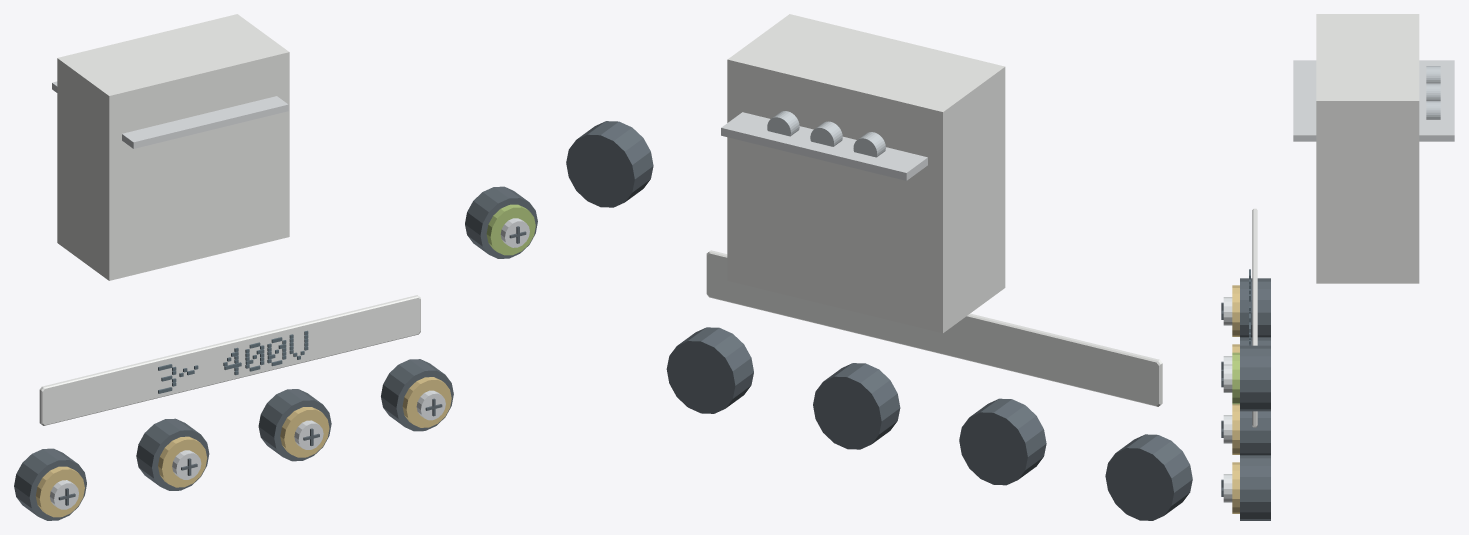
Rendered from threePhaseSupply.glb.
3 views of the same model, side by side, from view 1: azimuth 30°, elevation 25°; view 2: azimuth 150°, elevation 25°; view 3: azimuth 270°, elevation 25° (orthographic). The views are drawn at different scales.
Visible parts, largest first — view 1: threePhaseSupply-preview; view 2: threePhaseSupply-preview; view 3: threePhaseSupply-preview.
Boxes of the visible parts, x1,y1,x2,y2 form: threePhaseSupply-preview: (14,14,537,520); threePhaseSupply-preview: (566,14,1192,520); threePhaseSupply-preview: (1221,14,1454,520).
Size of the model in its own units: 2.77 by 1.95 by 1.11.
